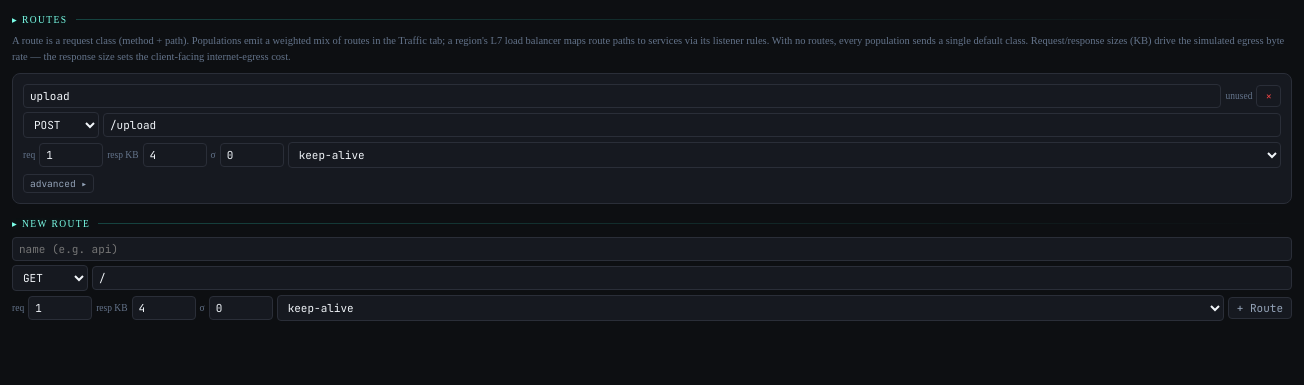
Test: PacketMixEditor (via RoutesPanel's advanced disclosure) › binds a weighted mix to a route and greys out the inline sizes
Click the button "advanced ▸" at coordinates (58, 183), box x1=23 y1=174 x2=94 y2=192
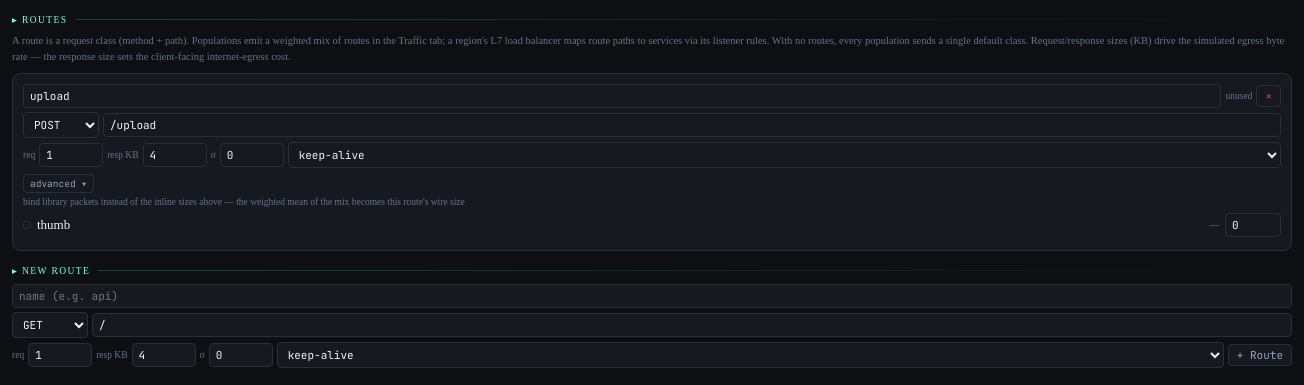
Replace the text in the field named "route-mix-2-1" with "3" at coordinates (1253, 224), box x1=1225 y1=212 x2=1281 y2=236
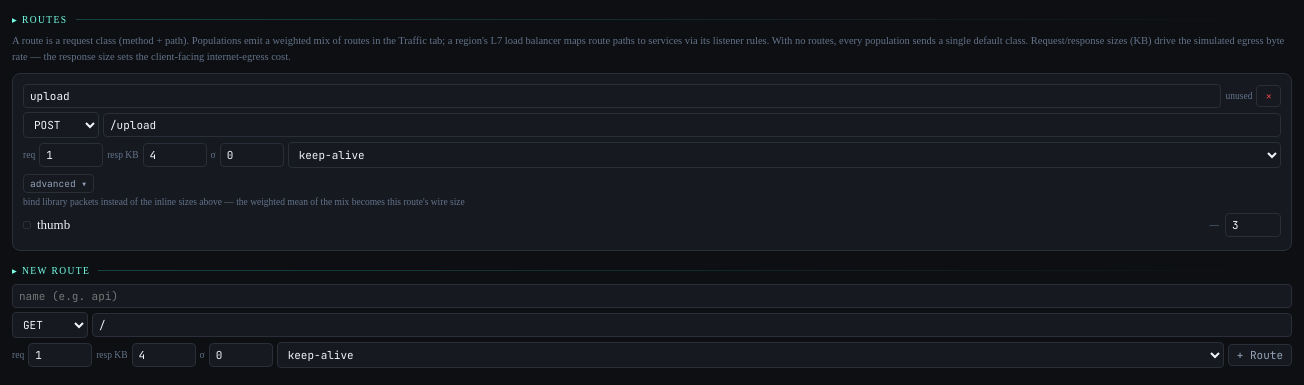
Leave the field named "route-mix-2-1", box x1=1225 y1=212 x2=1281 y2=236
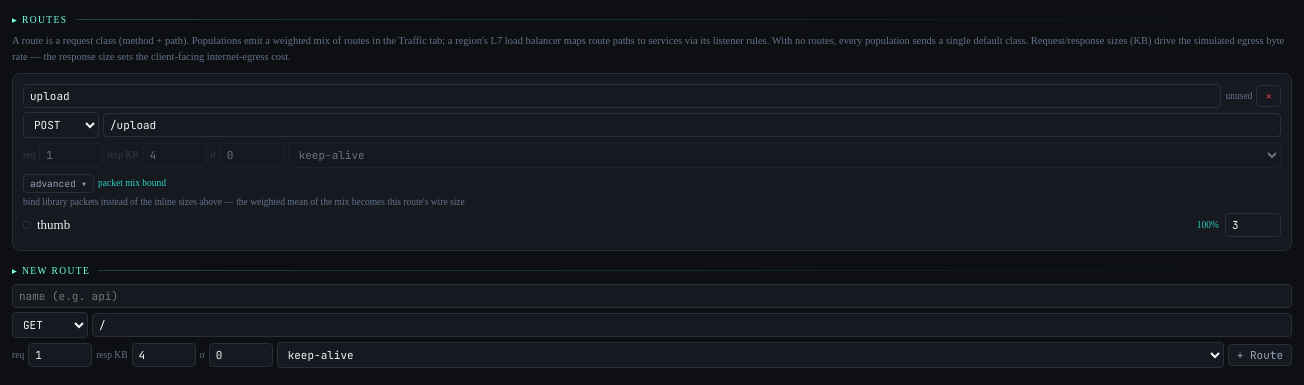
Result: the text "packet mix bound" is shown at x1=98 y1=178 x2=166 y2=188
